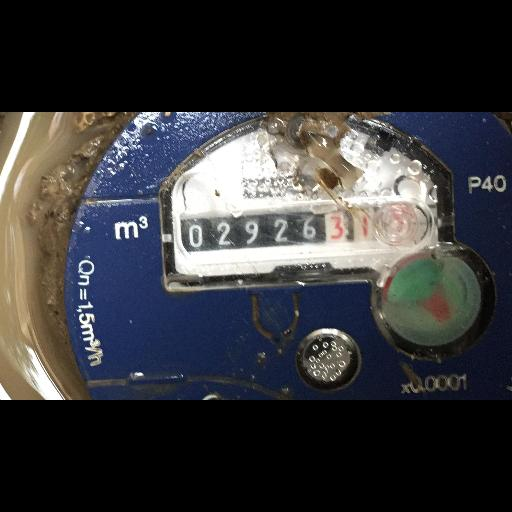0: (181, 218, 211, 252)
1: (352, 208, 382, 242)
2: (265, 213, 296, 248), (210, 216, 239, 251)
3: (324, 209, 355, 244)
6: (293, 211, 325, 245)
9: (236, 215, 267, 248)
border_water_meter_number: (174, 194, 437, 264)
